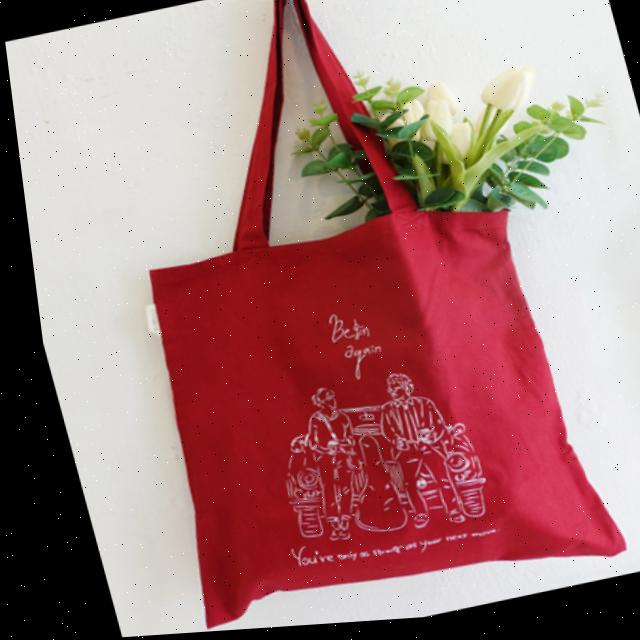ecobag: (15, 0, 637, 639)
